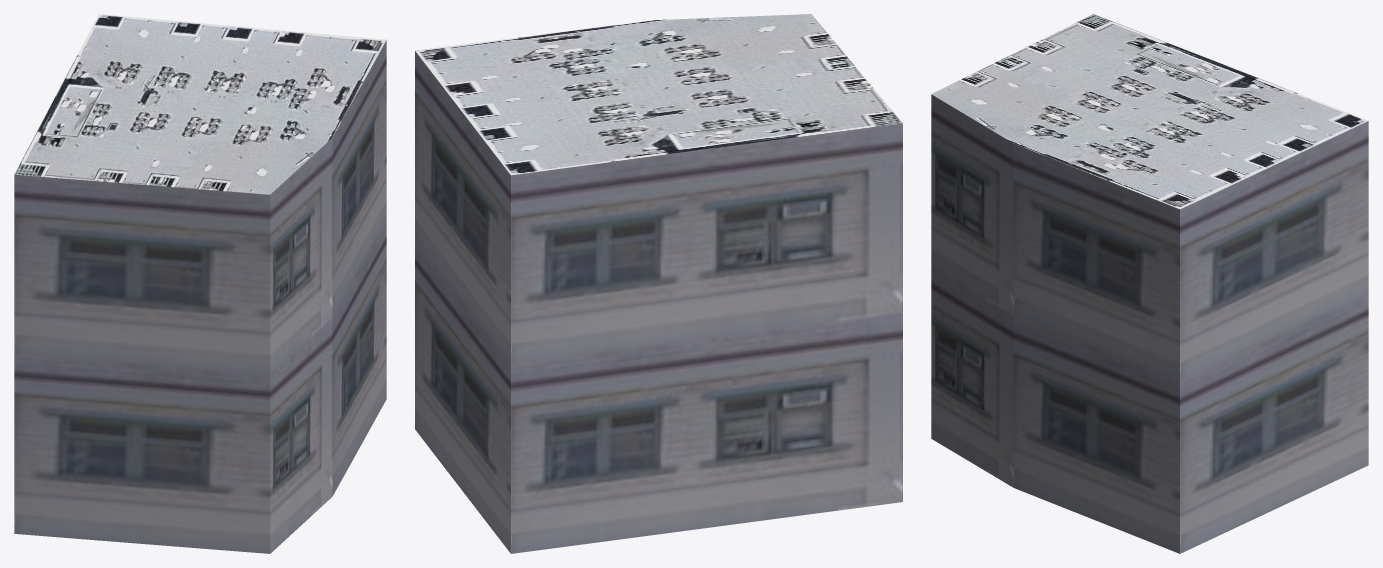
The model's file is ResTex__1748.fbx.
3 views of the same model, side by side, from view 1: azimuth 30°, elevation 25°; view 2: azimuth 150°, elevation 25°; view 3: azimuth 270°, elevation 25° (orthographic). The views are drawn at different scales.
Parts seen in each view (by area): view 1: CityEngineMaterial_1_m, CityEngineMaterial_m; view 2: CityEngineMaterial_1_m, CityEngineMaterial_m; view 3: CityEngineMaterial_1_m, CityEngineMaterial_m.
Part boxes in pixels (left/top/right/bottom): CityEngineMaterial_1_m: left=14, top=40, right=386, bottom=553; CityEngineMaterial_m: left=14, top=14, right=386, bottom=194; CityEngineMaterial_1_m: left=415, top=51, right=902, bottom=553; CityEngineMaterial_m: left=415, top=14, right=902, bottom=175; CityEngineMaterial_1_m: left=931, top=94, right=1368, bottom=553; CityEngineMaterial_m: left=931, top=14, right=1368, bottom=209.
Size of the model in its own units: 7.3 by 6 by 6.91.
Materials: 2 (2 with a texture image).
